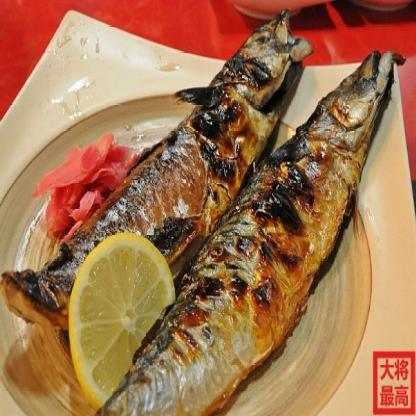Peixe: (1, 20, 402, 416)
